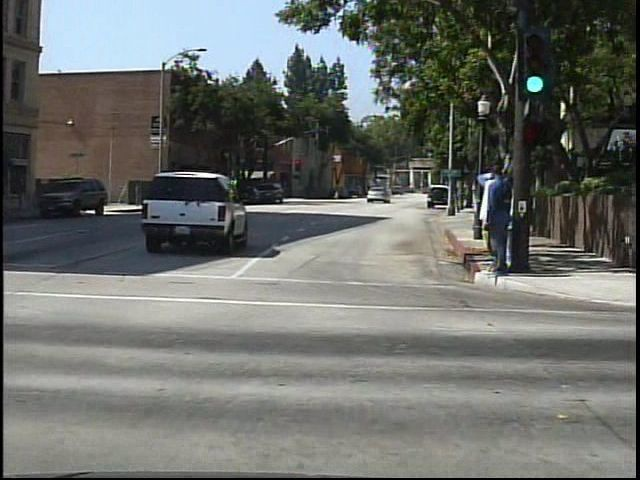person: (473, 167, 505, 279), (483, 160, 511, 279), (331, 184, 342, 201)
